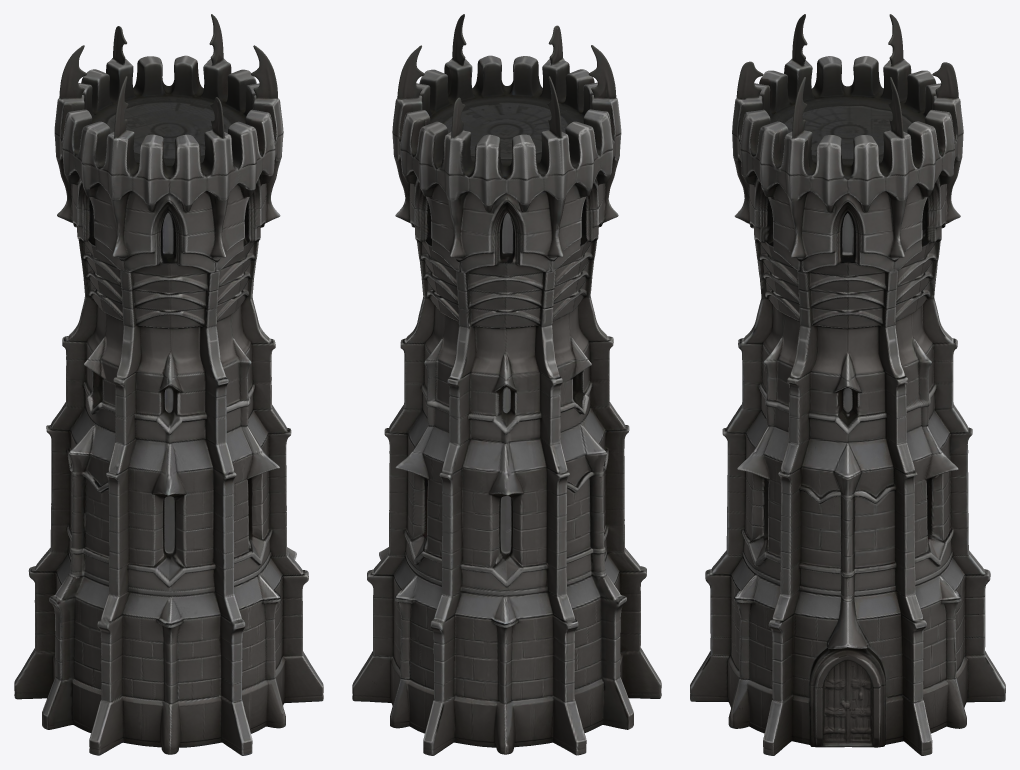
File: cenario_3d_torre_objeto.draco.glb
The picture shows the model from 3 angles, left to right: view 1: azimuth 30°, elevation 25°; view 2: azimuth 150°, elevation 25°; view 3: azimuth 270°, elevation 25°; orthographic projection.
Visible parts, largest first — view 1: tripo_node_6057ce28-45a5-41b0-a8ba-64a5e71bd1a4; view 2: tripo_node_6057ce28-45a5-41b0-a8ba-64a5e71bd1a4; view 3: tripo_node_6057ce28-45a5-41b0-a8ba-64a5e71bd1a4.
Boxes of the visible parts, x1,y1,x2,y2 form: tripo_node_6057ce28-45a5-41b0-a8ba-64a5e71bd1a4: (14,14,323,755); tripo_node_6057ce28-45a5-41b0-a8ba-64a5e71bd1a4: (352,14,661,755); tripo_node_6057ce28-45a5-41b0-a8ba-64a5e71bd1a4: (690,14,1005,755).
Bounding box in the file's own units: 0.405 × 1 × 0.4376.
Materials: 1 (1 with a texture image).
